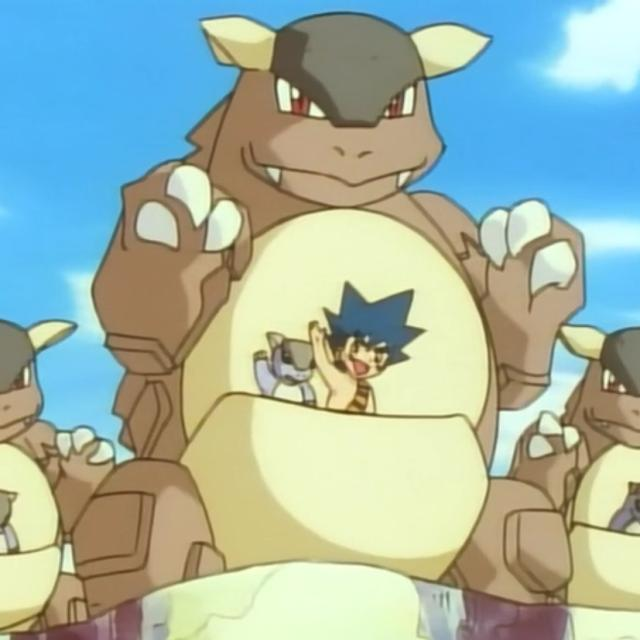Kangaskhan: (89, 13, 588, 595)
